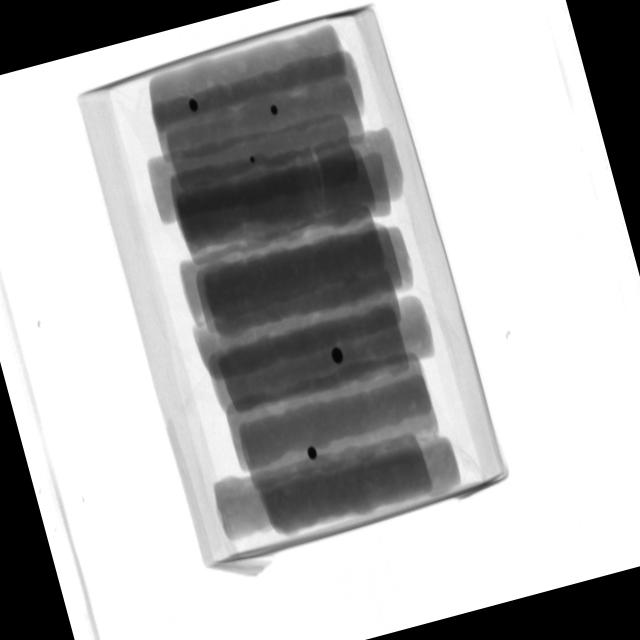ym: (331, 345, 346, 366), (188, 98, 201, 114), (308, 447, 321, 462), (270, 105, 280, 117), (248, 156, 257, 165)
